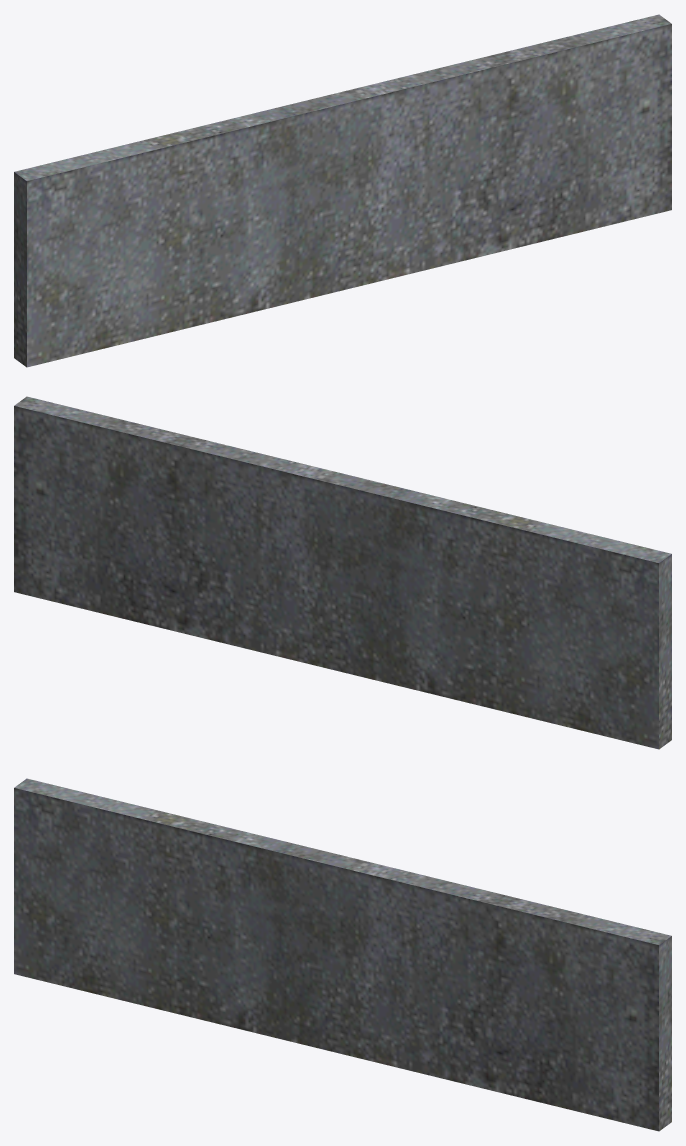
The model's file is plackard_slab_single.fbx.
3 renders of one model, top to bottom at view 1: azimuth 30°, elevation 25°; view 2: azimuth 150°, elevation 25°; view 3: azimuth 330°, elevation 25°, orthographic.
Parts seen in each view (by area): view 1: Body; view 2: Body; view 3: Body.
Boxes of the visible parts, x1,y1,x2,y2 form: Body: (14, 14, 671, 367); Body: (14, 396, 671, 749); Body: (14, 778, 671, 1131).
Size of the model in its own units: 290 by 80 by 10.
